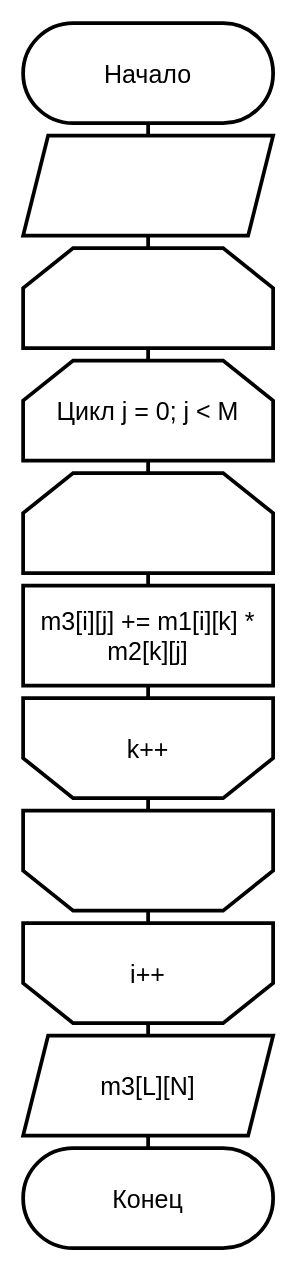
Image size: 296x1271. Some labels were removed from this diagram. The shapes that lost their labels are listed below. From the top down, each one's box as (x1, y1, x2, y2) in pixels, then its label:
(21, 133, 274, 237): Матрицы m1[L][M] и m2[M][N]
(21, 246, 274, 349): Цикл i = 0; i < L
(21, 471, 274, 574): Цикл k = 0; k < N
(21, 808, 274, 912): j++
